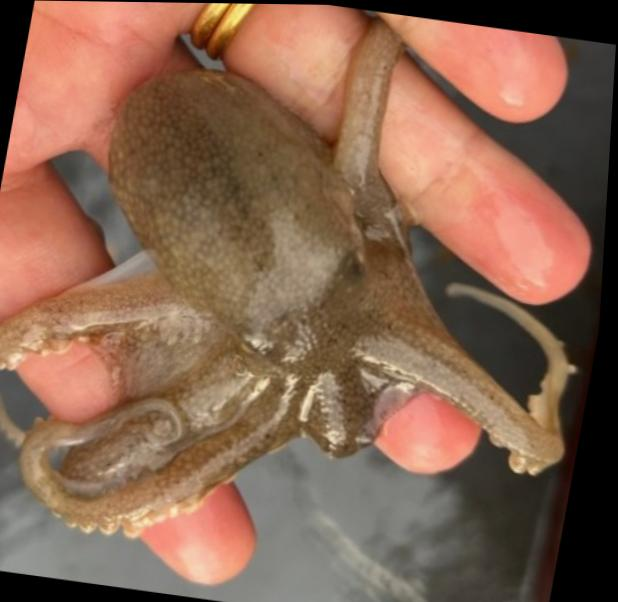Cephalopod: (0, 15, 578, 535)
